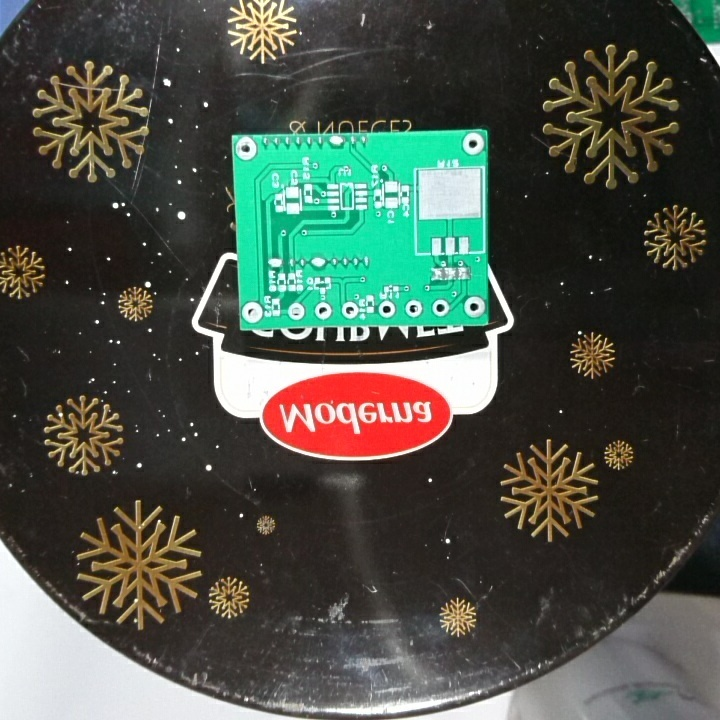F: (233, 135, 259, 161), (240, 299, 265, 326), (460, 131, 485, 156), (462, 294, 486, 319), (402, 297, 427, 320), (285, 300, 308, 324), (430, 296, 453, 320), (311, 300, 335, 322), (339, 299, 360, 321), (377, 298, 397, 320)
P: (325, 133, 348, 150), (265, 255, 287, 270), (308, 254, 329, 269)
